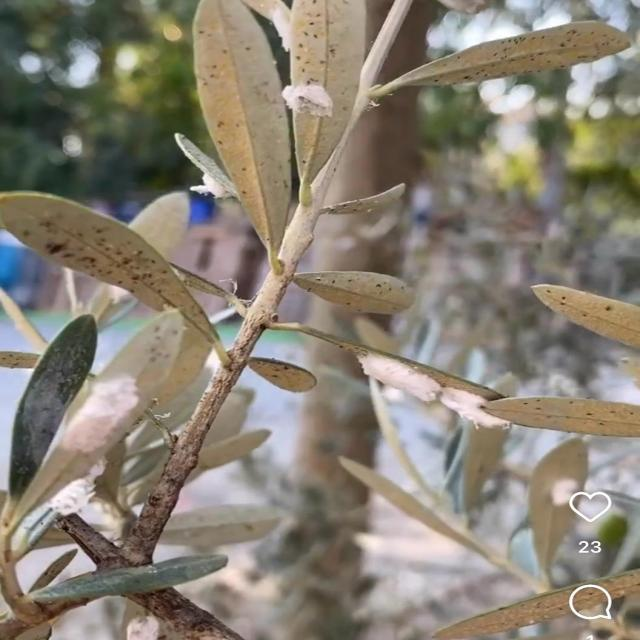Psyllid: (20, 310, 198, 504), (349, 346, 519, 429), (40, 460, 106, 524), (175, 134, 236, 199), (282, 82, 332, 118)
